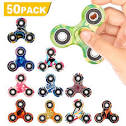fidget_kid_spinner_toys: (51, 5, 109, 62), (0, 44, 40, 77), (4, 17, 41, 45), (60, 71, 91, 96), (4, 71, 35, 96), (34, 74, 63, 97), (41, 38, 59, 75), (37, 100, 64, 124), (90, 101, 120, 122), (3, 100, 33, 119), (67, 100, 92, 121)
